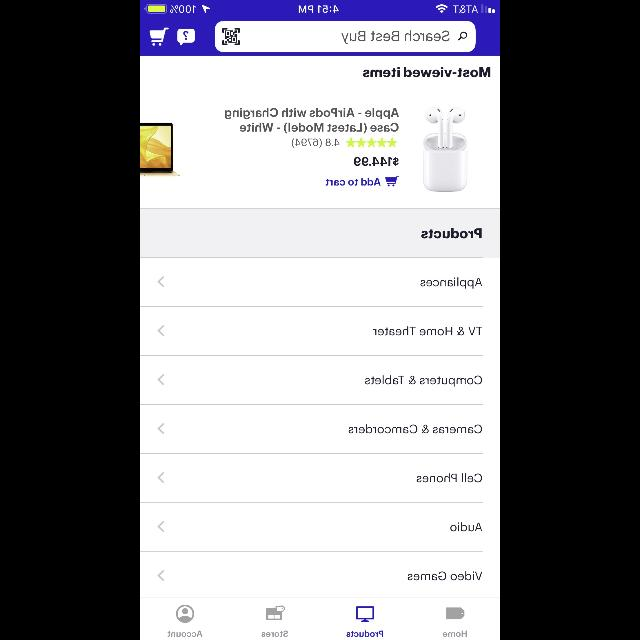icon: (346, 137, 396, 147), (176, 605, 194, 623), (150, 28, 168, 46), (178, 28, 195, 46), (446, 607, 464, 619), (385, 176, 399, 187), (158, 570, 165, 582), (158, 374, 165, 386), (158, 472, 165, 483), (458, 32, 467, 40), (158, 522, 165, 532), (158, 424, 165, 434), (158, 326, 165, 336), (158, 276, 165, 286)
image: (423, 106, 467, 192), (140, 123, 180, 177), (222, 28, 240, 46), (356, 606, 374, 622), (266, 606, 284, 620)
input: (214, 22, 476, 52)
text: (225, 108, 399, 134), (364, 66, 491, 78), (341, 31, 449, 44), (348, 424, 482, 434), (364, 376, 482, 386), (373, 326, 482, 336), (421, 228, 481, 240), (420, 278, 482, 288), (416, 473, 482, 482), (408, 572, 482, 580), (292, 138, 340, 148), (326, 178, 380, 186), (354, 158, 398, 166), (450, 522, 482, 532), (346, 630, 382, 638), (168, 631, 202, 637), (262, 631, 288, 637), (443, 630, 467, 636)
uppertaskbar: (140, 0, 500, 14)
